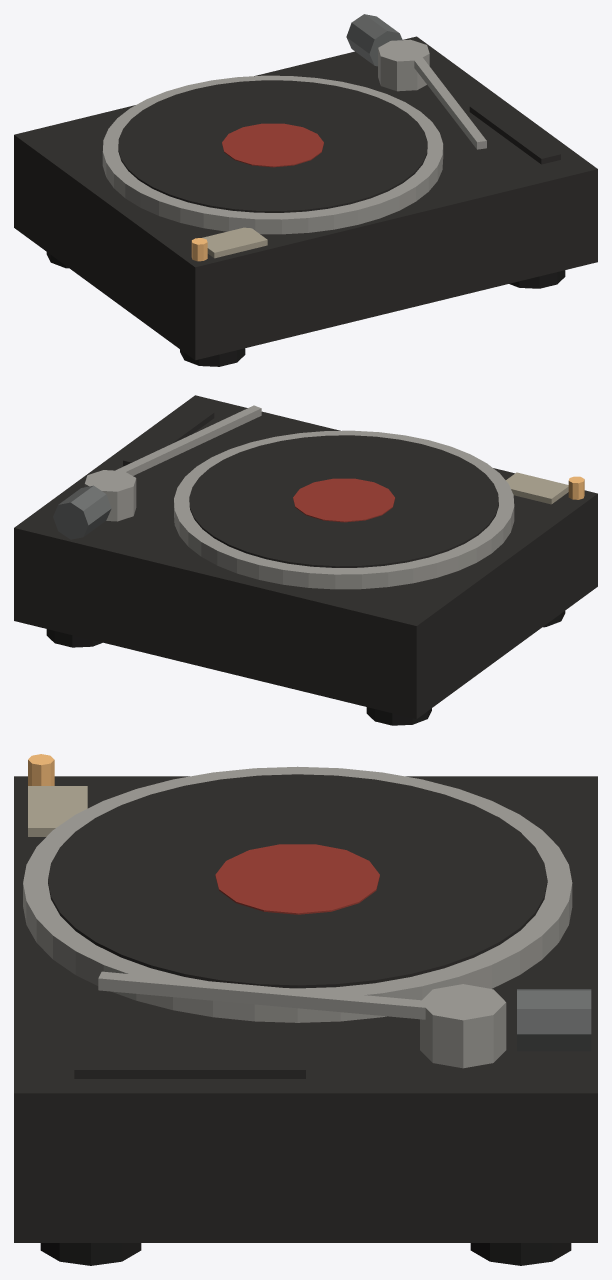
Rendered from dj-turntable-direct.glb.
3 renders of one model, top to bottom at view 1: azimuth 30°, elevation 25°; view 2: azimuth 150°, elevation 25°; view 3: azimuth 270°, elevation 25°, orthographic. The views are drawn at different scales.
Visible parts, largest first — view 1: plastic-dark, brushed, accent-warm, metal, rubber, plastic-light; view 2: plastic-dark, brushed, accent-warm, metal, rubber, plastic-light; view 3: plastic-dark, brushed, accent-warm, metal, rubber, plastic-light, emissive-warm.
Part boxes in pixels (x1,y1,x2,y2): plastic-dark: (14,36,597,360); brushed: (102,39,486,234); accent-warm: (222,123,323,167); metal: (346,14,402,66); rubber: (46,252,565,366); plastic-light: (202,227,267,258); plastic-dark: (14,395,597,719); brushed: (84,405,514,589); accent-warm: (293,478,395,522); metal: (53,485,111,539); rubber: (46,611,565,725); plastic-light: (506,472,568,504); plastic-dark: (14,774,597,1242); brushed: (23,766,572,1068); accent-warm: (215,844,379,914); metal: (517,989,591,1051); rubber: (40,1243,571,1265); plastic-light: (28,786,87,836); emissive-warm: (28,754,54,785).
Size of the model in its own units: 0.453 by 0.162 by 0.353.
